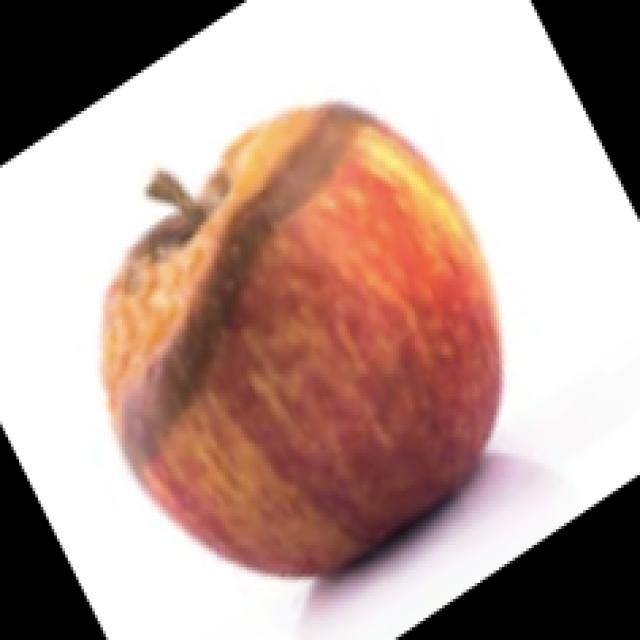Rotten: (96, 92, 506, 580)
